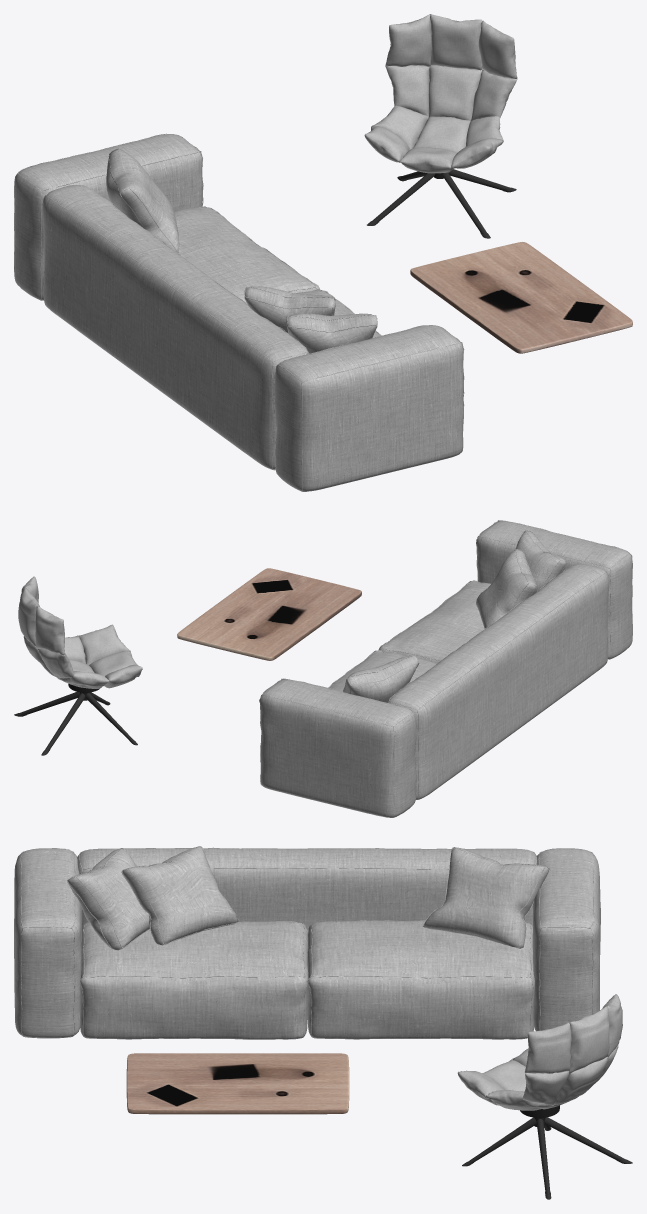
The model's file is draco-product.glb.
3 views of the same model, one above another, from view 1: azimuth 30°, elevation 25°; view 2: azimuth 150°, elevation 25°; view 3: azimuth 270°, elevation 25° (orthographic). The views are drawn at different scales.
Parts seen in each view (by area): view 1: Leather Sofa_Fabric.002_0.001, Cube.034_Fabric.001_0.001, Cube.021_Material.009_0.001, Chair_Material.010_0.001; view 2: Leather Sofa_Fabric.002_0.001, Cube.021_Material.009_0.001, Cube.034_Fabric.001_0.001, Chair_Material.010_0.001; view 3: Leather Sofa_Fabric.002_0.001, Cube.021_Material.009_0.001, Cube.034_Fabric.001_0.001, Chair_Material.010_0.001.
Boxes of the visible parts, x1=… form: Leather Sofa_Fabric.002_0.001: x1=14, y1=133, x2=464, y2=491; Cube.034_Fabric.001_0.001: x1=364, y1=14, x2=517, y2=173; Cube.021_Material.009_0.001: x1=410, y1=242, x2=632, y2=353; Chair_Material.010_0.001: x1=367, y1=169, x2=516, y2=238; Leather Sofa_Fabric.002_0.001: x1=259, y1=520, x2=632, y2=817; Cube.021_Material.009_0.001: x1=177, y1=568, x2=361, y2=660; Cube.034_Fabric.001_0.001: x1=18, y1=576, x2=142, y2=688; Chair_Material.010_0.001: x1=14, y1=692, x2=137, y2=755; Leather Sofa_Fabric.002_0.001: x1=14, y1=846, x2=600, y2=1039; Cube.021_Material.009_0.001: x1=126, y1=1053, x2=349, y2=1114; Cube.034_Fabric.001_0.001: x1=457, y1=994, x2=622, y2=1110; Chair_Material.010_0.001: x1=462, y1=1117, x2=632, y2=1199.
Bounding box in the file's own units: 2.92 × 0.9611 × 3.25.
Materials: 5 (3 with a texture image).
